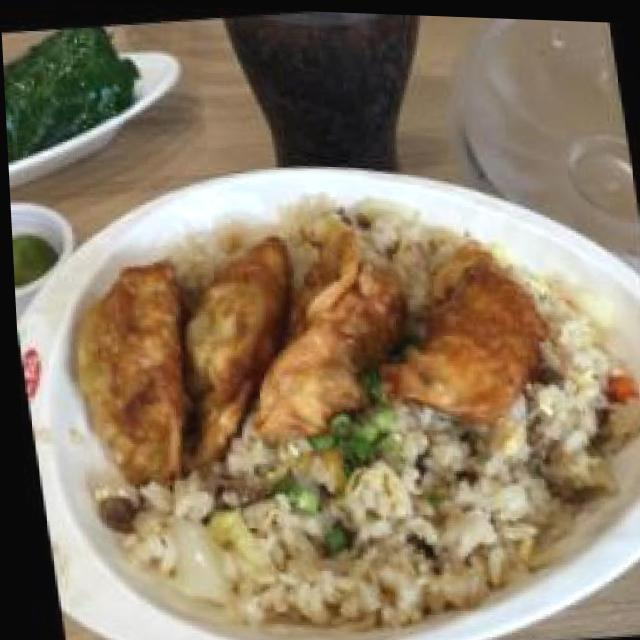fried_dumplings: (49, 216, 554, 491)
